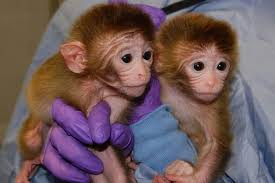monkey: (153, 3, 257, 170), (57, 11, 156, 181)
